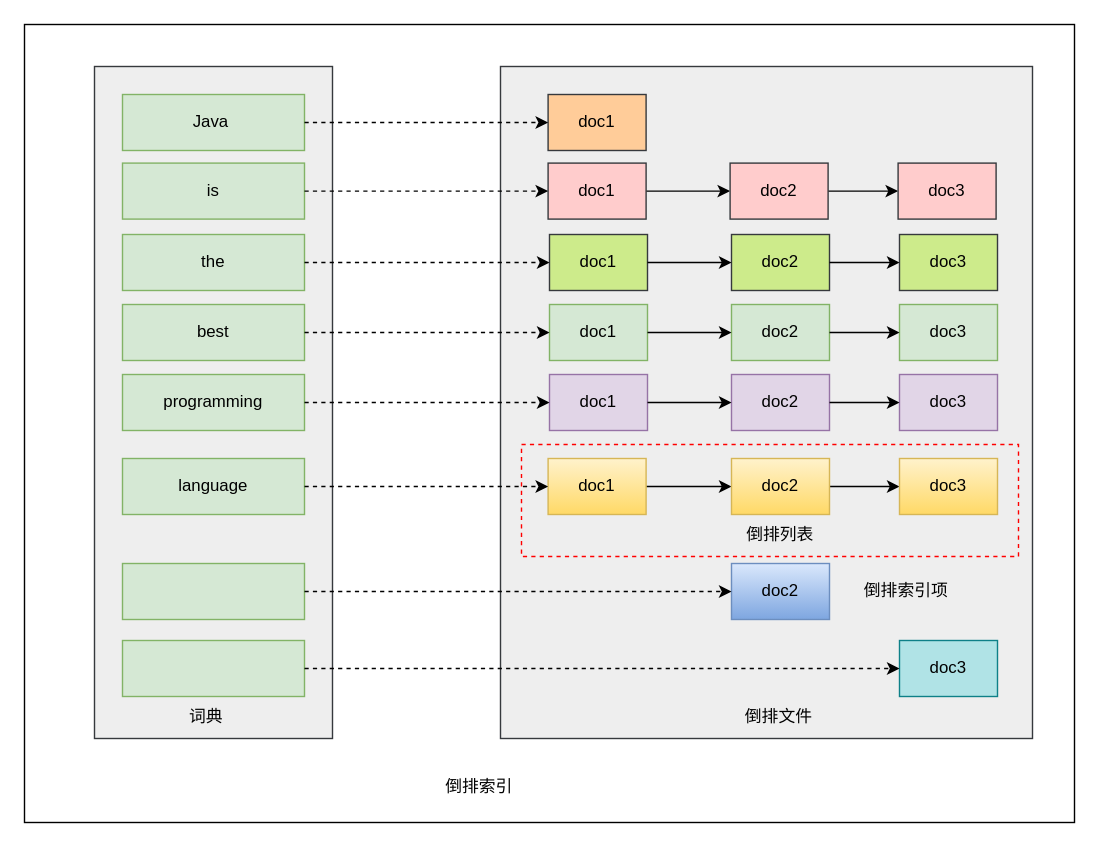
The diagram is 1099 pixels wide and 847 high, and some of its shapes have lost their labels. Each missing label, with the centre of its shape:
"Javascript" belongs at pixel 212 667.
"PHP" belongs at pixel 212 591.
